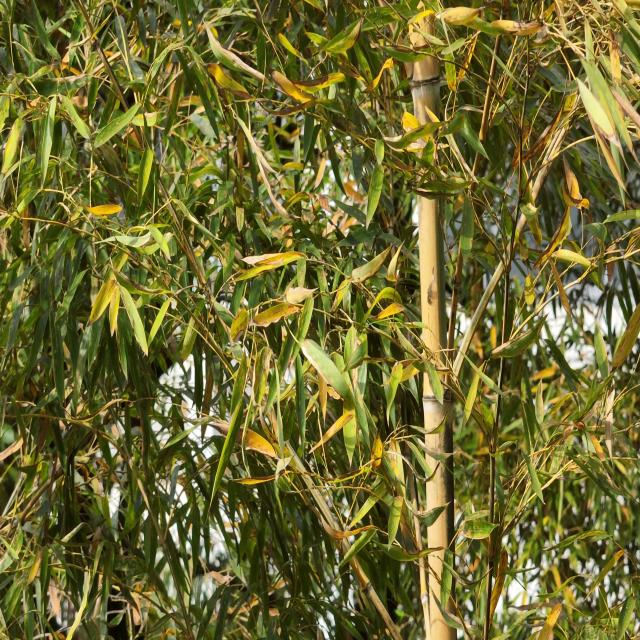Bamboo-shoots: (406, 0, 459, 639)
